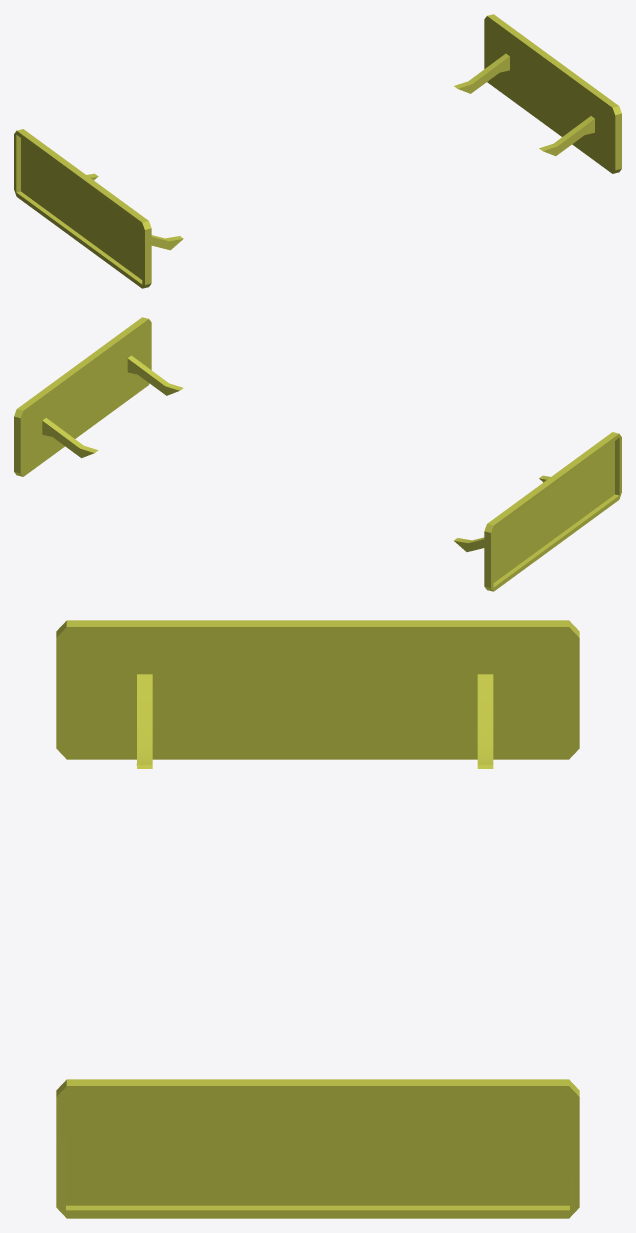
File: vagon name.FBX
3 views of the same model, one above another, from view 1: azimuth 30°, elevation 25°; view 2: azimuth 150°, elevation 25°; view 3: azimuth 270°, elevation 25° (orthographic). The views are drawn at different scales.
Visible parts, largest first — view 1: Object867; view 2: Object867; view 3: Object867.
Boxes of the visible parts, x1,y1,x2,y2 form: Object867: (14,14,621,288); Object867: (14,317,621,591); Object867: (56,620,579,1218).
Bounding box in the file's own units: 2.1 × 0.2779 × 0.9956.
